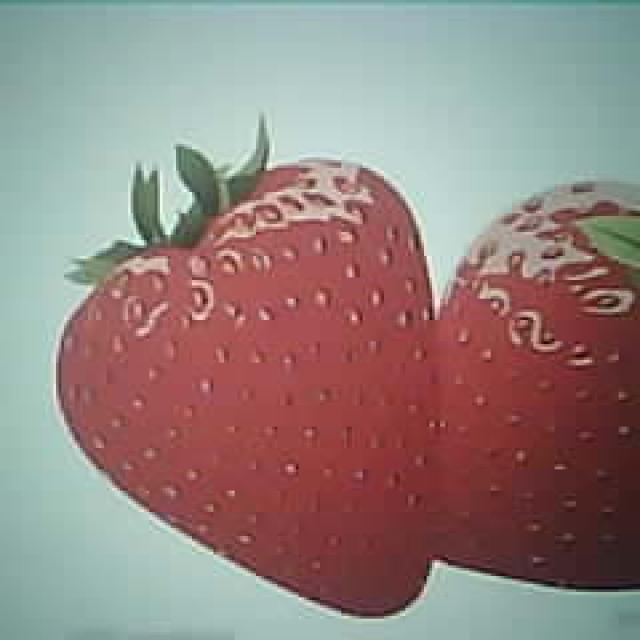strawberry: (59, 158, 436, 618), (434, 171, 640, 590)
